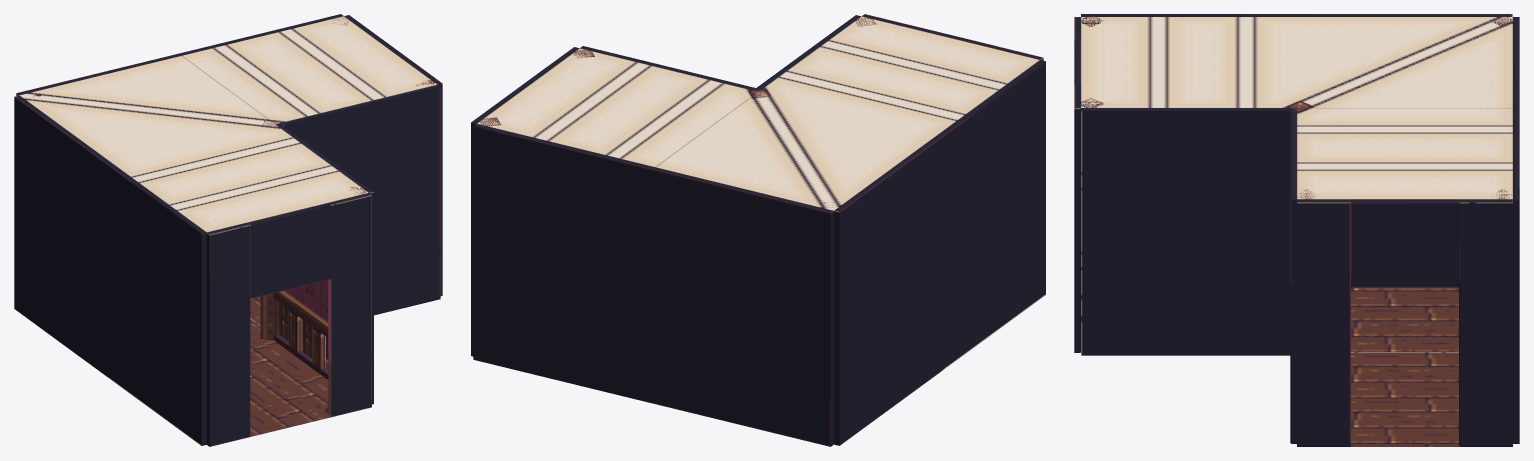
Rendered from CornerHallway_Burgundy_Model.fbx.
3 renders of one model, left to right at view 1: azimuth 30°, elevation 25°; view 2: azimuth 150°, elevation 25°; view 3: azimuth 270°, elevation 25°, orthographic. The views are drawn at different scales.
Visible parts, largest first — view 1: Model; view 2: Model; view 3: Model.
Part boxes in pixels (left/top/right/bottom): Model: left=14, top=14, right=442, bottom=446; Model: left=471, top=14, right=1045, bottom=446; Model: left=1074, top=14, right=1519, bottom=446.
Bounding box in the file's own units: 412 × 250 × 412.
1 material, 1 textured.
